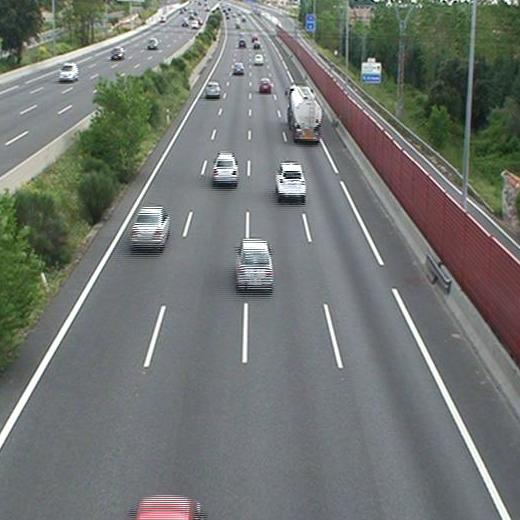car: (237, 240, 274, 288), (130, 208, 169, 245), (276, 163, 305, 197), (211, 157, 239, 182), (206, 82, 220, 95), (259, 79, 271, 91), (232, 63, 244, 74), (253, 55, 265, 64)
tank-truck: (287, 86, 321, 142)
